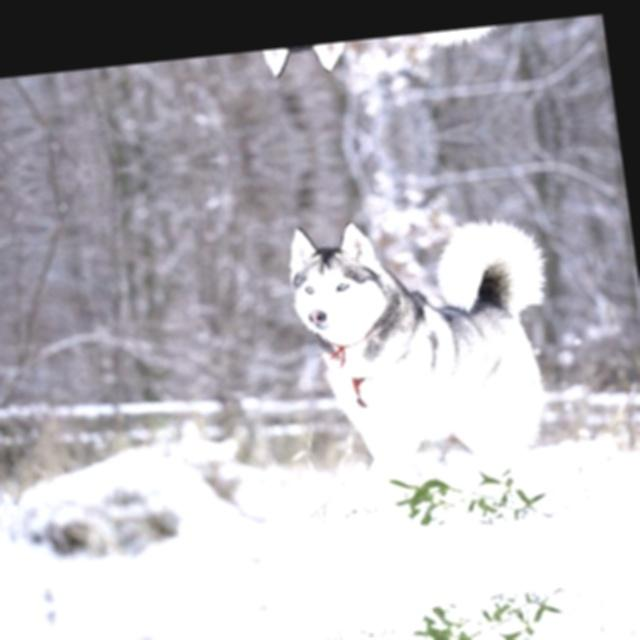dog: (288, 206, 570, 507), (262, 24, 510, 74), (344, 620, 593, 640)
